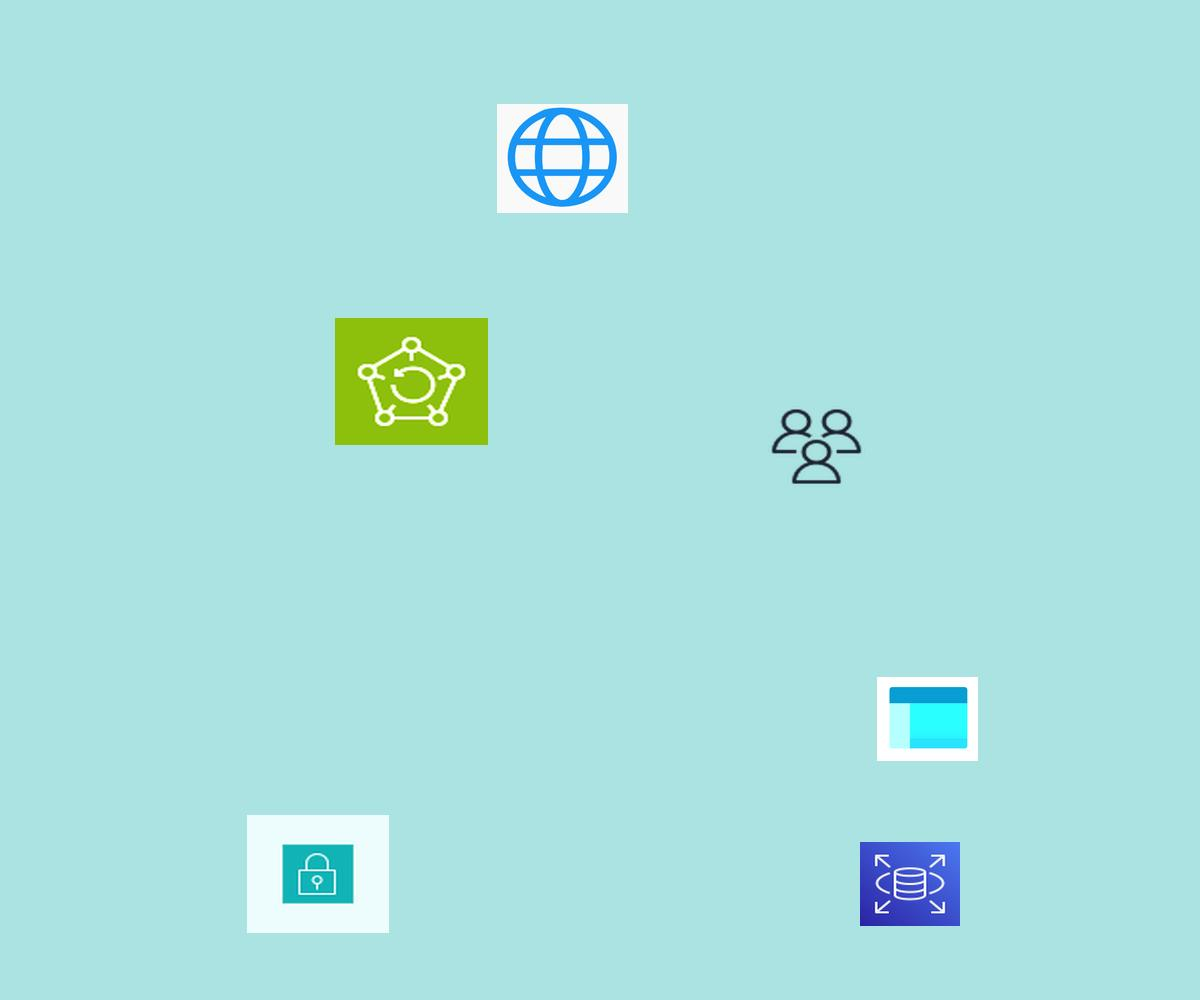AWS-Backup: (335, 318, 488, 445)
AWS-Private-subnet: (247, 815, 389, 933)
AWS-RDS: (860, 842, 960, 926)
AWS-Res_Users: (768, 406, 865, 487)
Azure_http: (497, 104, 628, 213)
Azure_management-portal: (877, 677, 978, 761)
